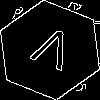V: (25, 25, 78, 80)
